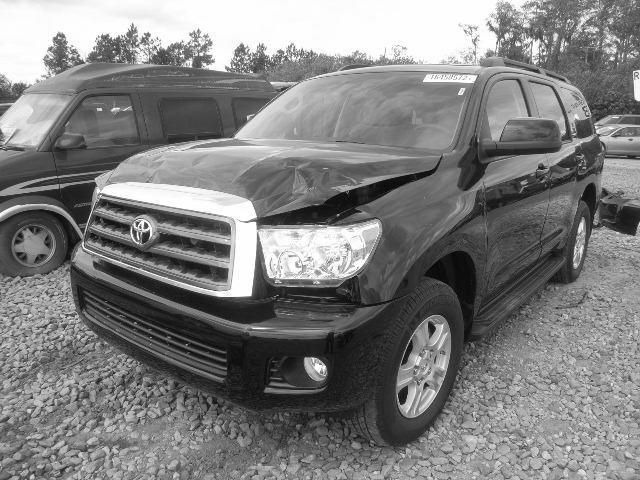car: (73, 62, 608, 453)
